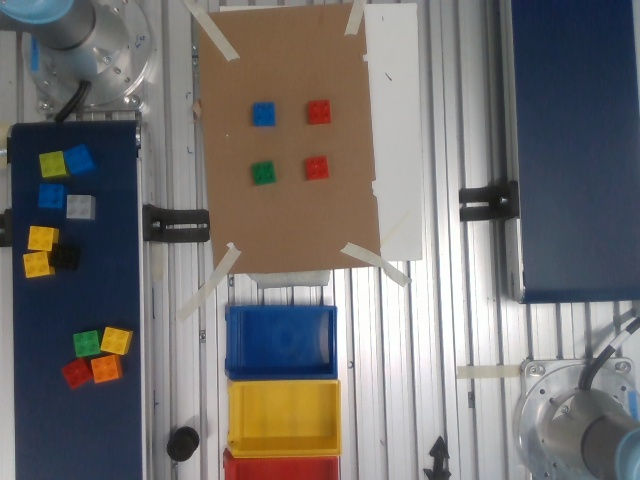duplo_4_blue: (251, 101, 276, 129)
duplo_4_red: (306, 98, 334, 127), (302, 155, 330, 181)
ignore: (248, 161, 279, 186)
